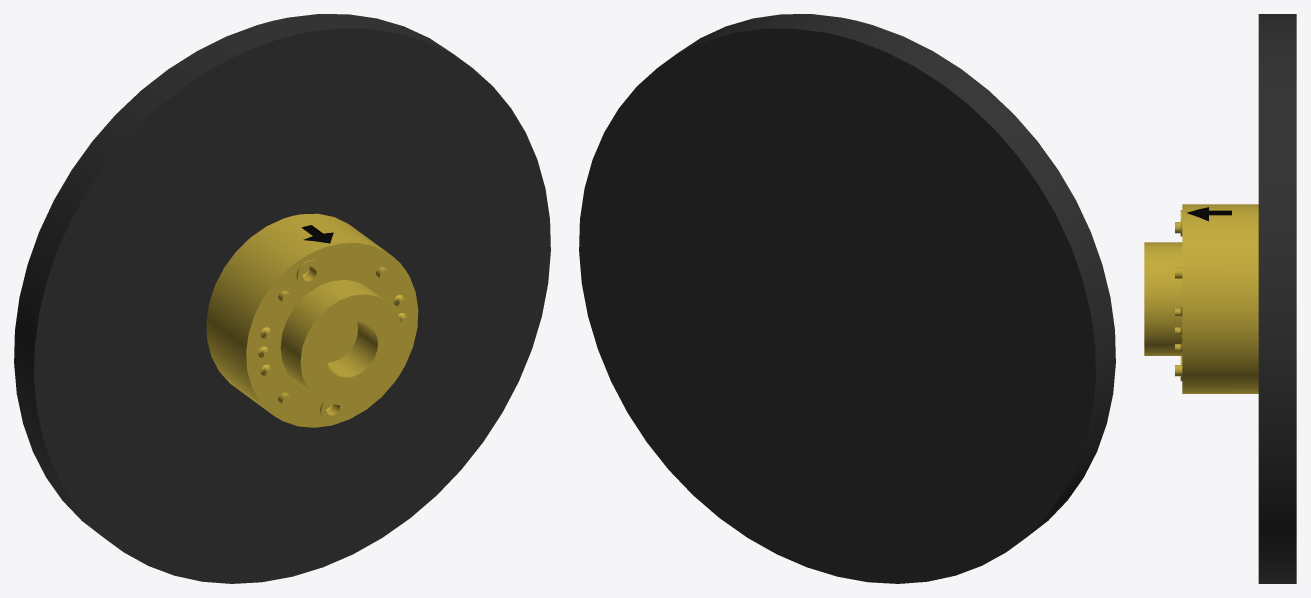
Rendered from tool_changer.glb.
3 renders of one model, left to right at view 1: azimuth 30°, elevation 25°; view 2: azimuth 150°, elevation 25°; view 3: azimuth 270°, elevation 25°, orthographic. The views are drawn at different scales.
Visible parts, largest first — view 1: tool_change_coupler.SLDPRT; view 2: tool_change_coupler.SLDPRT; view 3: tool_change_coupler.SLDPRT.
Boxes of the visible parts, x1,y1,x2,y2 form: tool_change_coupler.SLDPRT: (14,14,550,583); tool_change_coupler.SLDPRT: (579,14,1115,583); tool_change_coupler.SLDPRT: (1144,14,1296,583).
Bounding box in the file's own units: 0.075 × 0.075 × 0.02.
